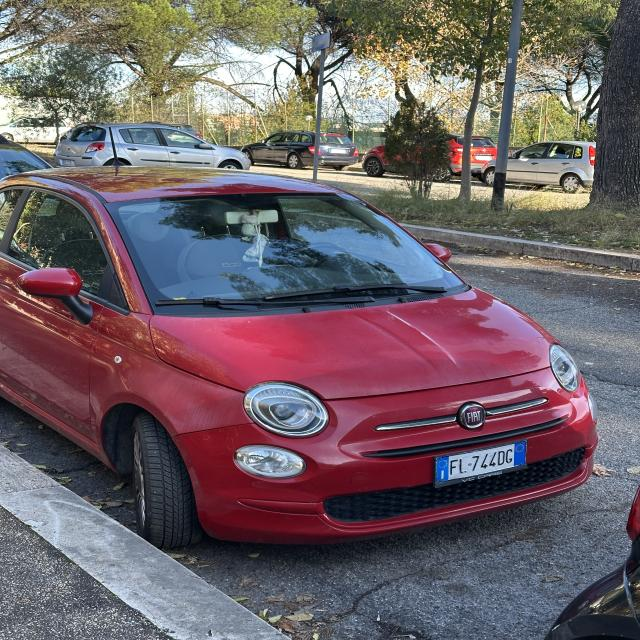number_plate: (435, 441, 526, 487)
